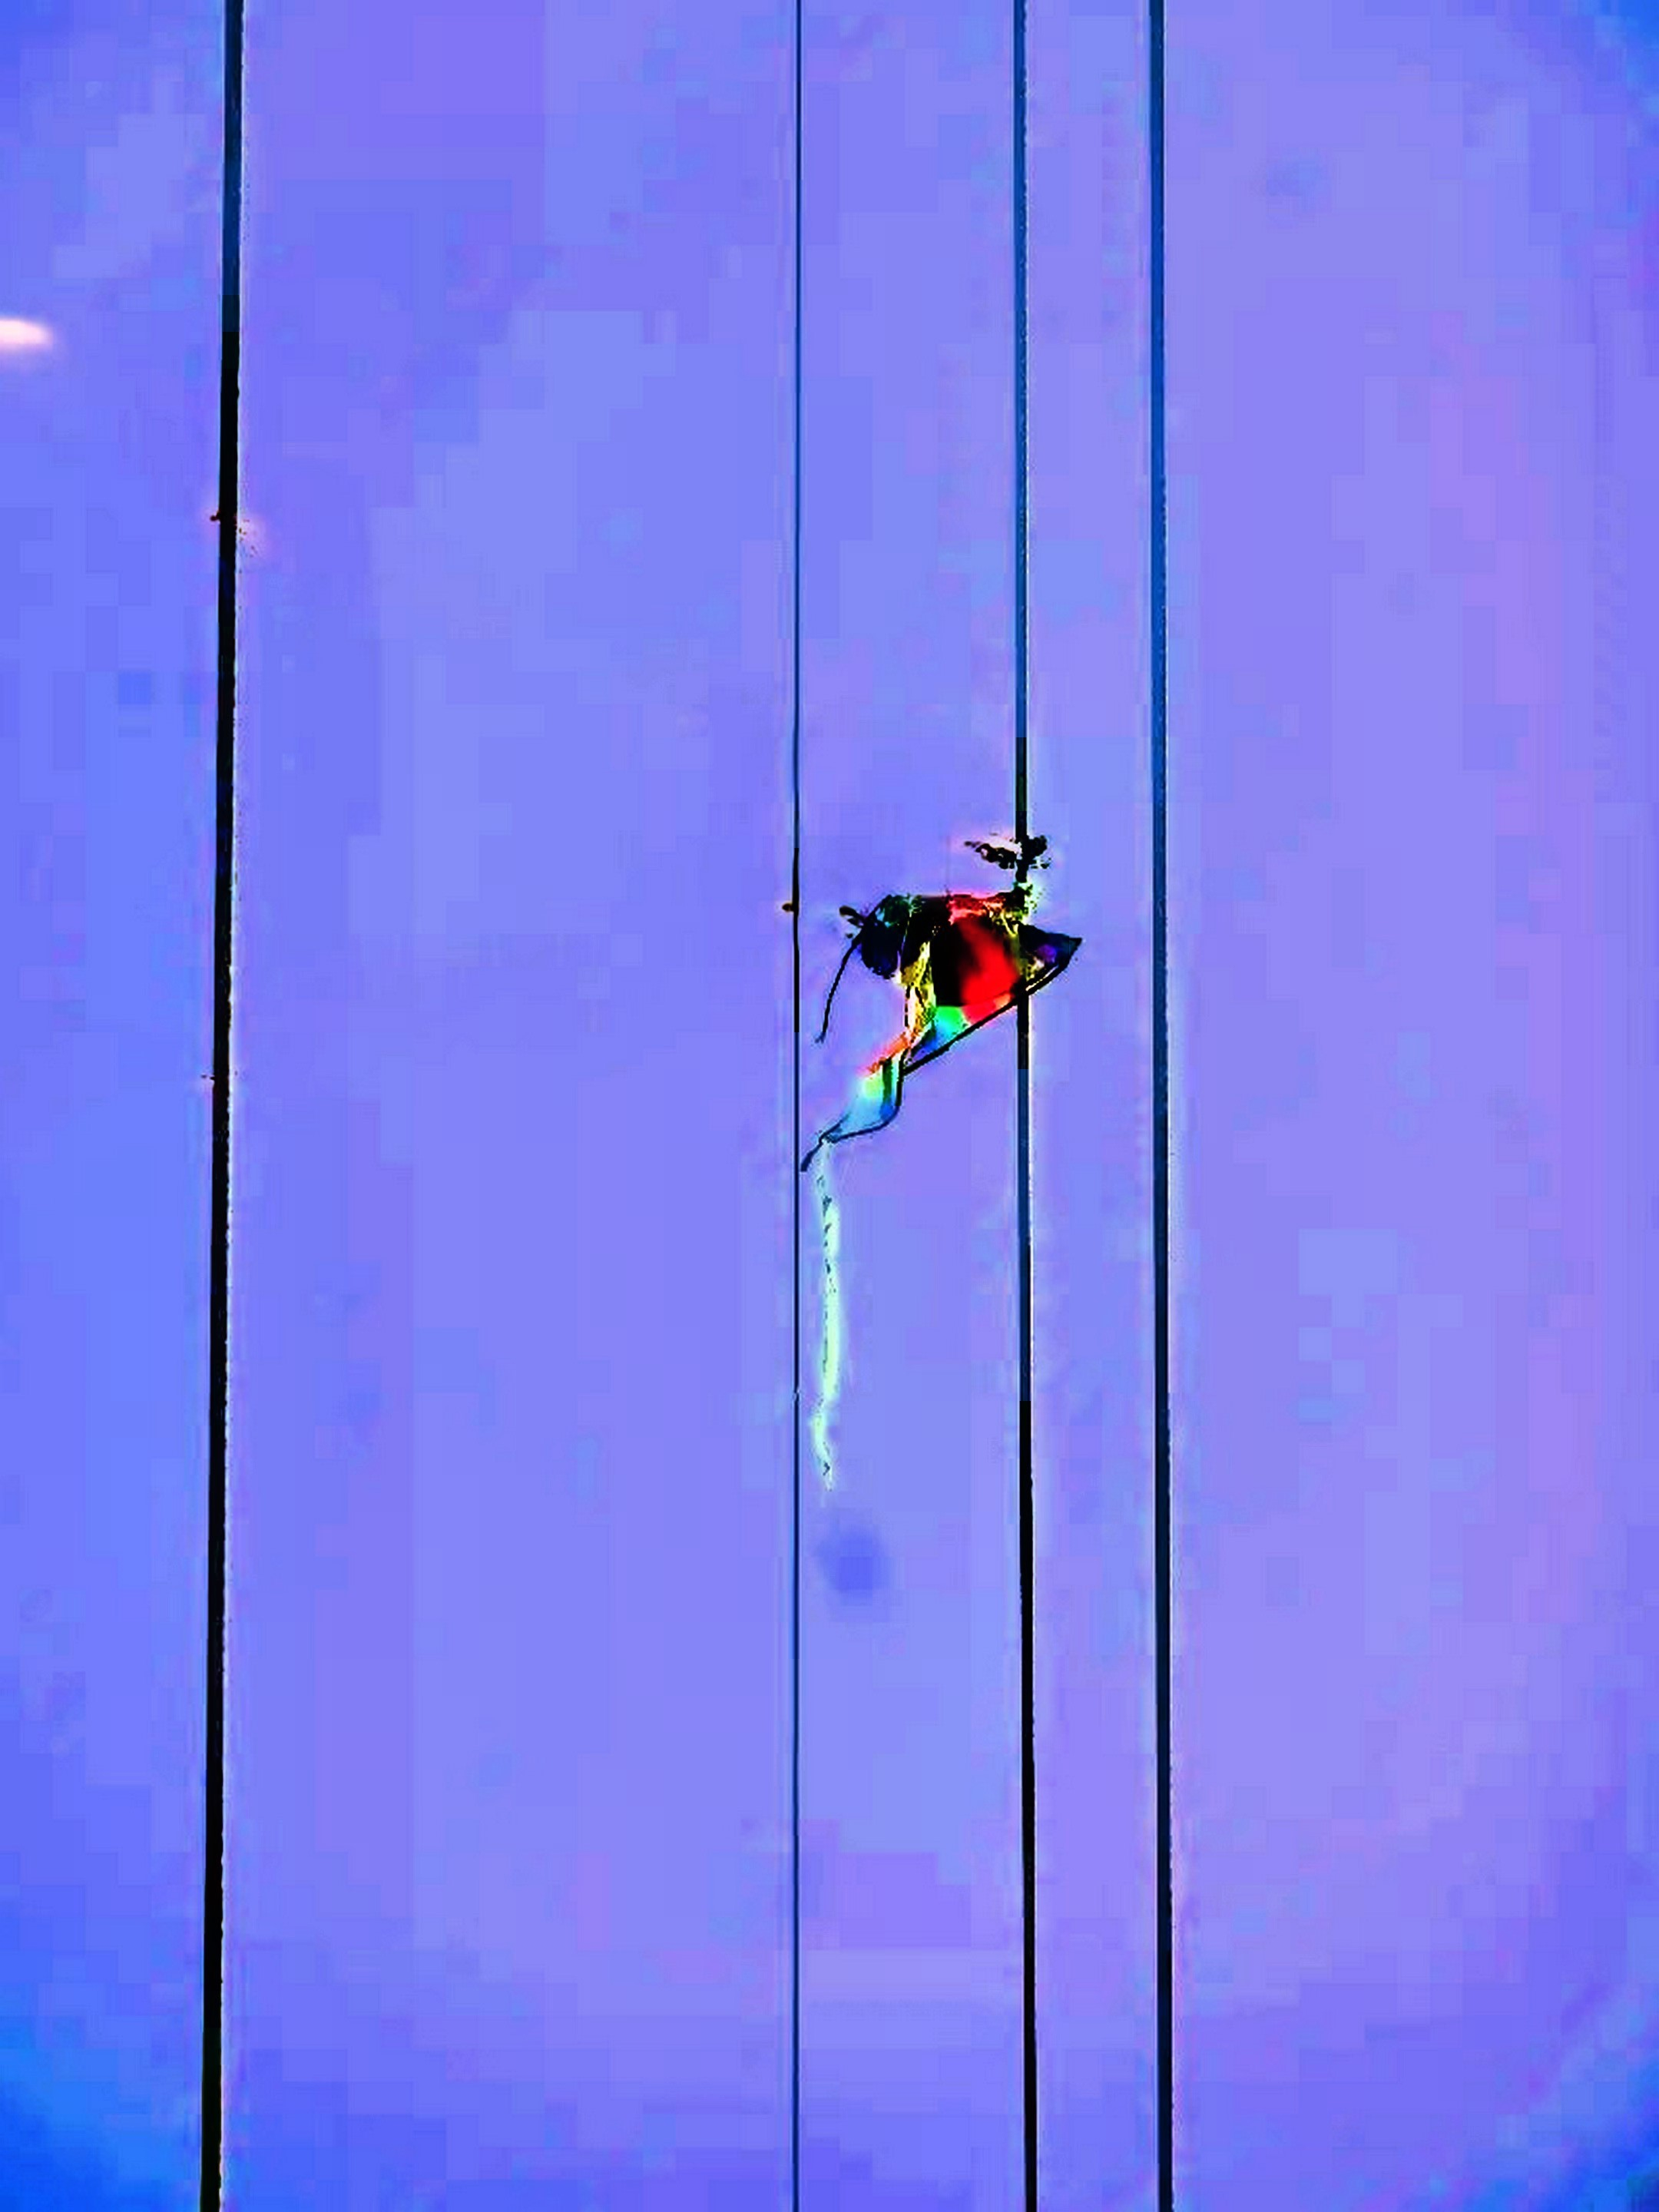wire foreign body: (782, 806, 1105, 1350)
